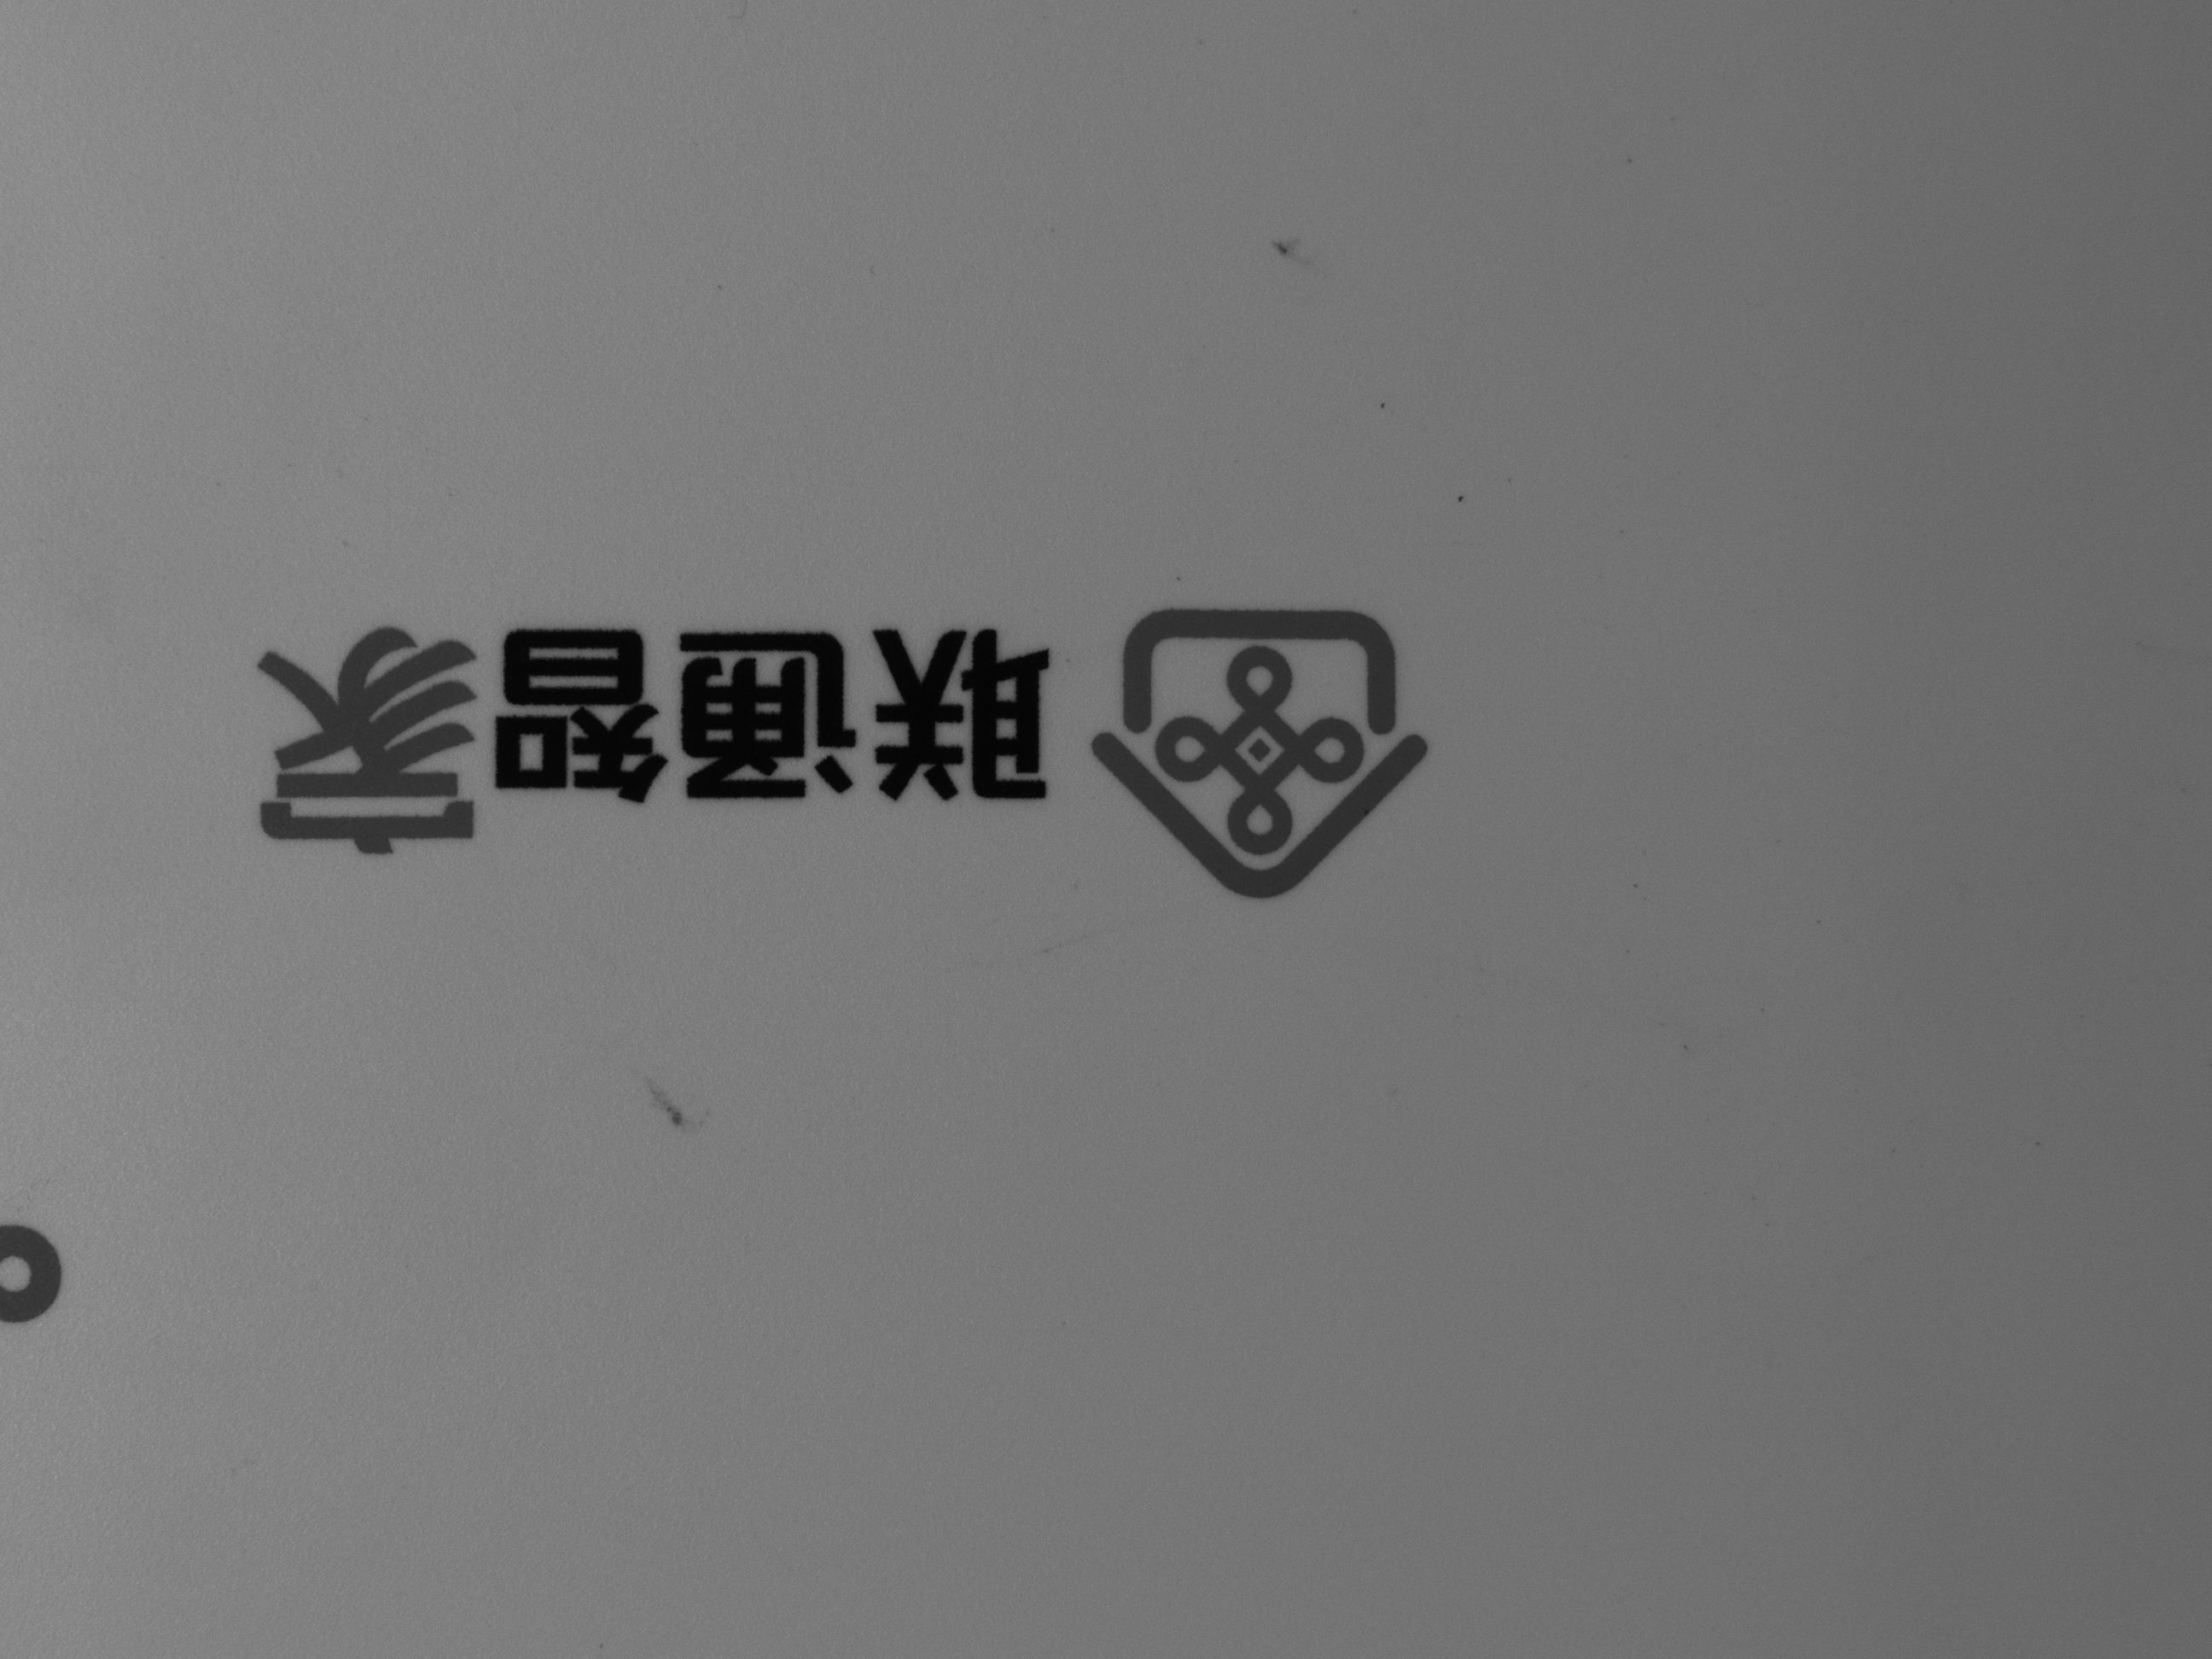BY_F6610Unicome: (206, 540, 1465, 899)
